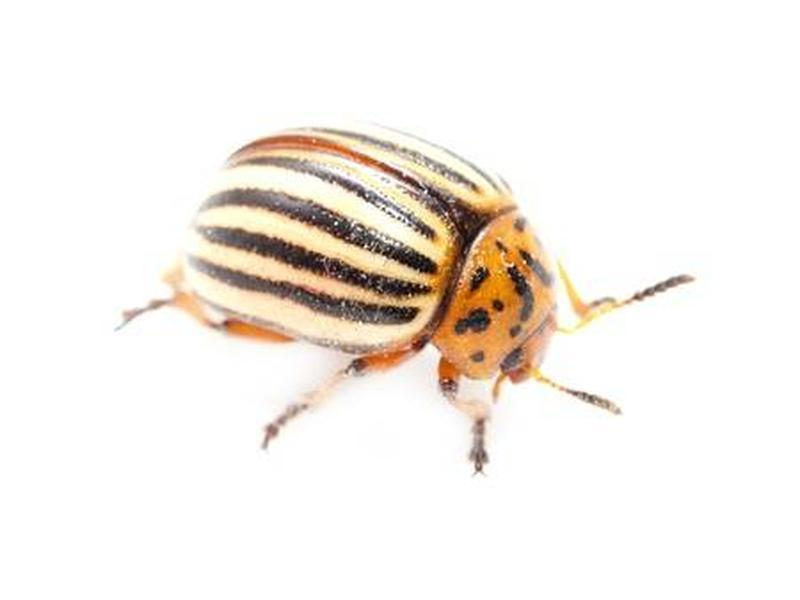hrosc: (184, 103, 581, 430)
